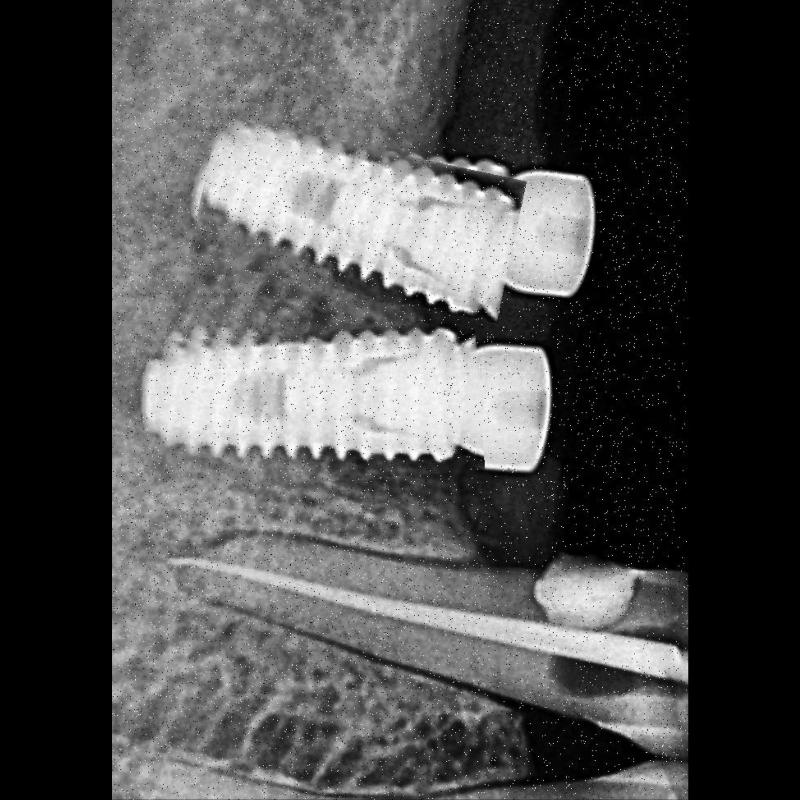osstem: (194, 132, 520, 308), (138, 326, 482, 488)
